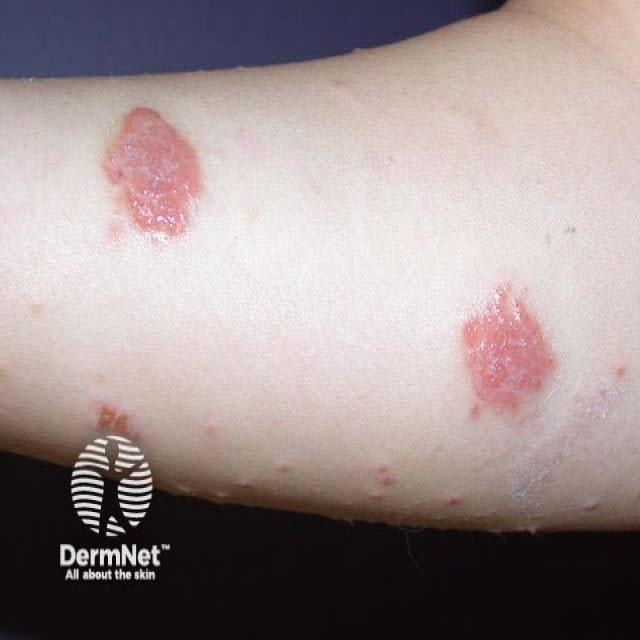Eczema: (96, 104, 208, 249), (453, 290, 561, 408)
